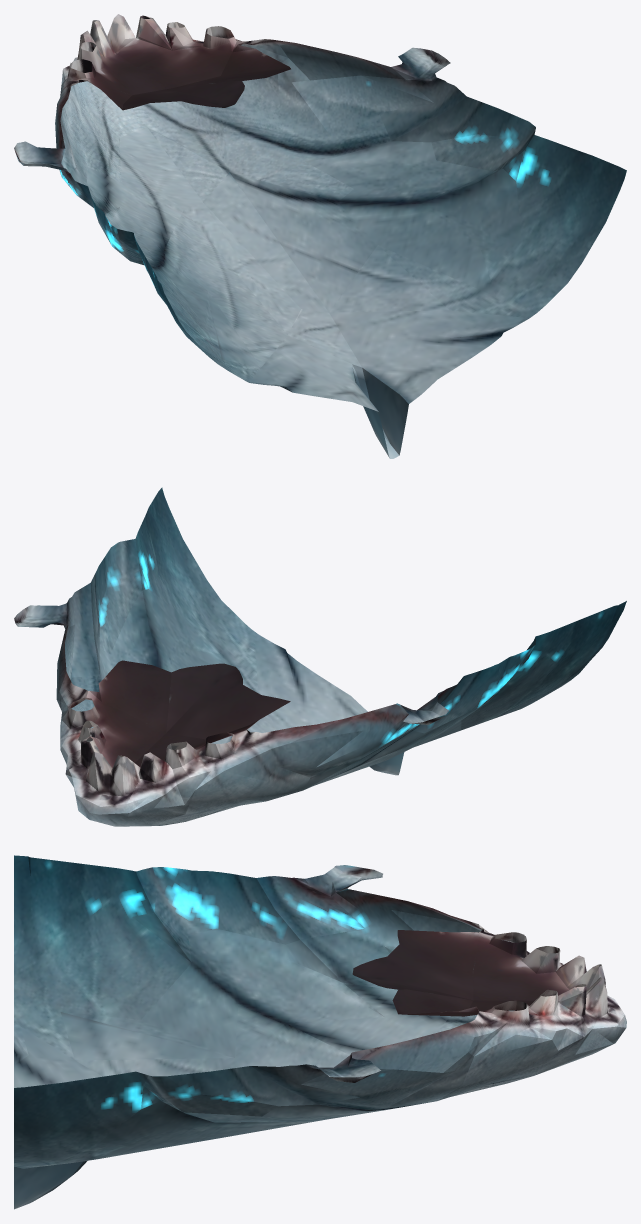
Rendered from serpohvost-chelyust.glb.
3 renders of one model, top to bottom at view 1: azimuth 30°, elevation 25°; view 2: azimuth 150°, elevation 25°; view 3: azimuth 270°, elevation 25°, orthographic. The views are drawn at different scales.
Visible parts, largest first — view 1: serpohvost-chelyust; view 2: serpohvost-chelyust; view 3: serpohvost-chelyust.
Part boxes in pixels (<box>): serpohvost-chelyust: <box>14,14,626,458</box>; serpohvost-chelyust: <box>14,487,626,826</box>; serpohvost-chelyust: <box>14,855,626,1209</box>.
Bounding box in the file's own units: 0.6913 × 0.3284 × 0.7701.
1 material, 1 textured.
